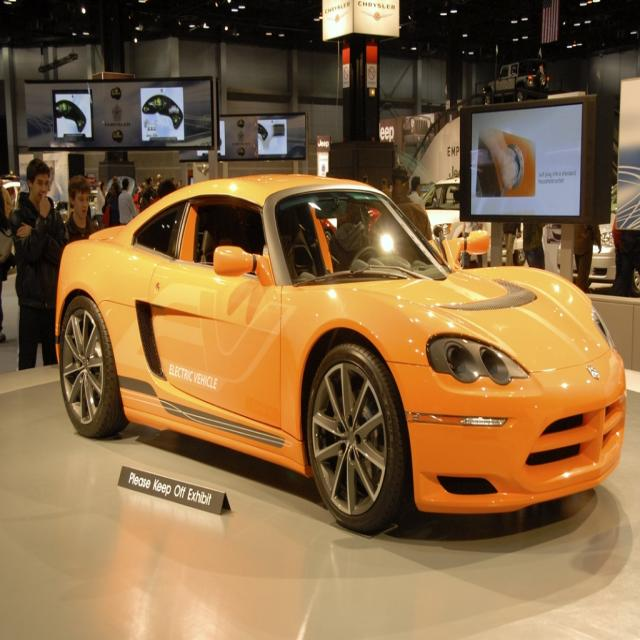car: (44, 178, 628, 540)
